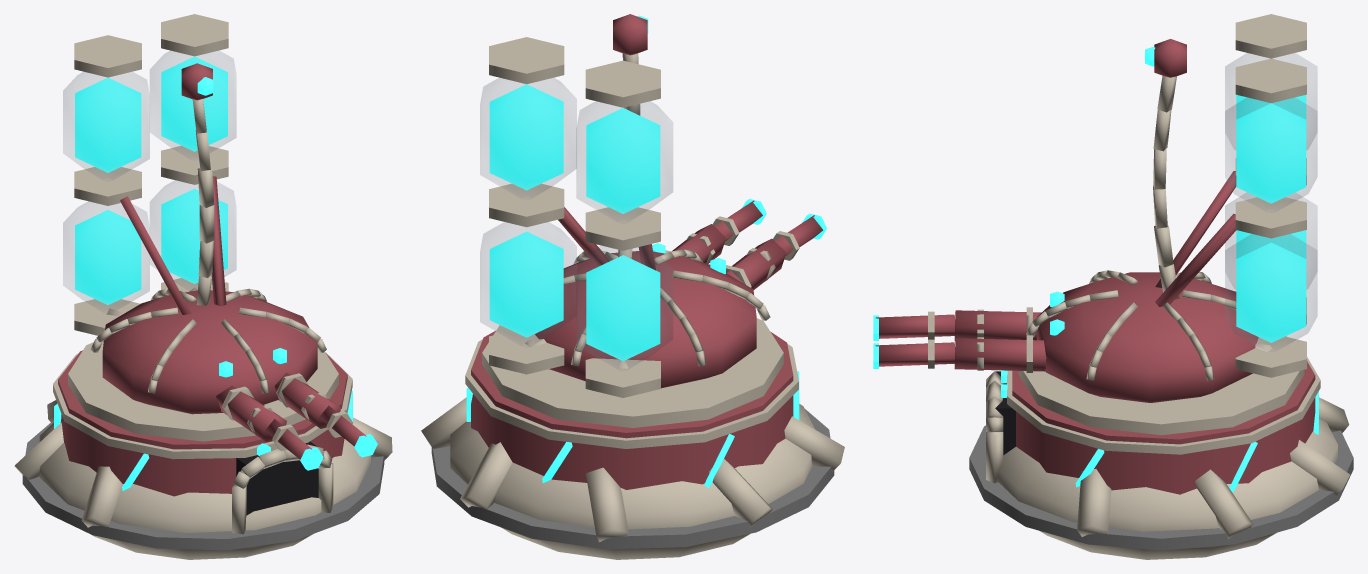
Rendered from Machinegoon_T2_Spitter.glb.
The picture shows the model from 3 angles, left to right: view 1: azimuth 30°, elevation 25°; view 2: azimuth 150°, elevation 25°; view 3: azimuth 270°, elevation 25°; orthographic projection. The views are drawn at different scales.
Visible parts, largest first — view 1: Machinegoon_T2_Spitter_Turret, Machinegoon_T2_Spitter_Base; view 2: Machinegoon_T2_Spitter_Turret, Machinegoon_T2_Spitter_Base; view 3: Machinegoon_T2_Spitter_Turret, Machinegoon_T2_Spitter_Base.
Part boxes in pixels (left/top/right/bottom): Machinegoon_T2_Spitter_Turret: left=63, top=14, right=377, bottom=470; Machinegoon_T2_Spitter_Base: left=14, top=350, right=392, bottom=559; Machinegoon_T2_Spitter_Turret: left=480, top=14, right=826, bottom=427; Machinegoon_T2_Spitter_Base: left=421, top=330, right=844, bottom=559; Machinegoon_T2_Spitter_Turret: left=873, top=14, right=1317, bottom=435; Machinegoon_T2_Spitter_Base: left=969, top=357, right=1353, bottom=559.
Bounding box in the file's own units: 3.5 × 4.88 × 4.38.
